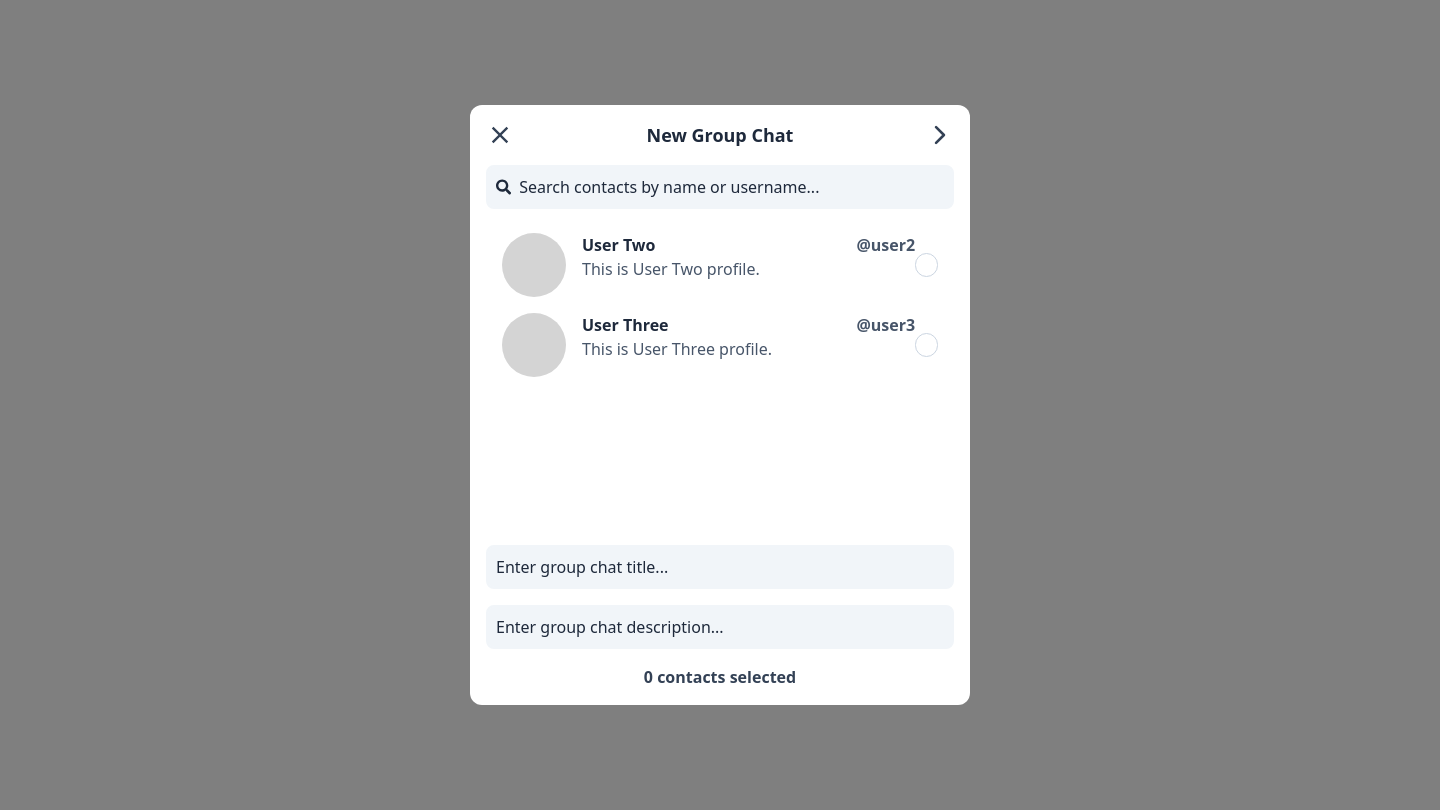
Test case: <NewChatModal /> › Group Chat Modal › prevents starting group chat without title
Step 1. Click the button with test id "start-new-group-chat-button" → (940, 135), box left=926, top=121, right=954, bottom=149
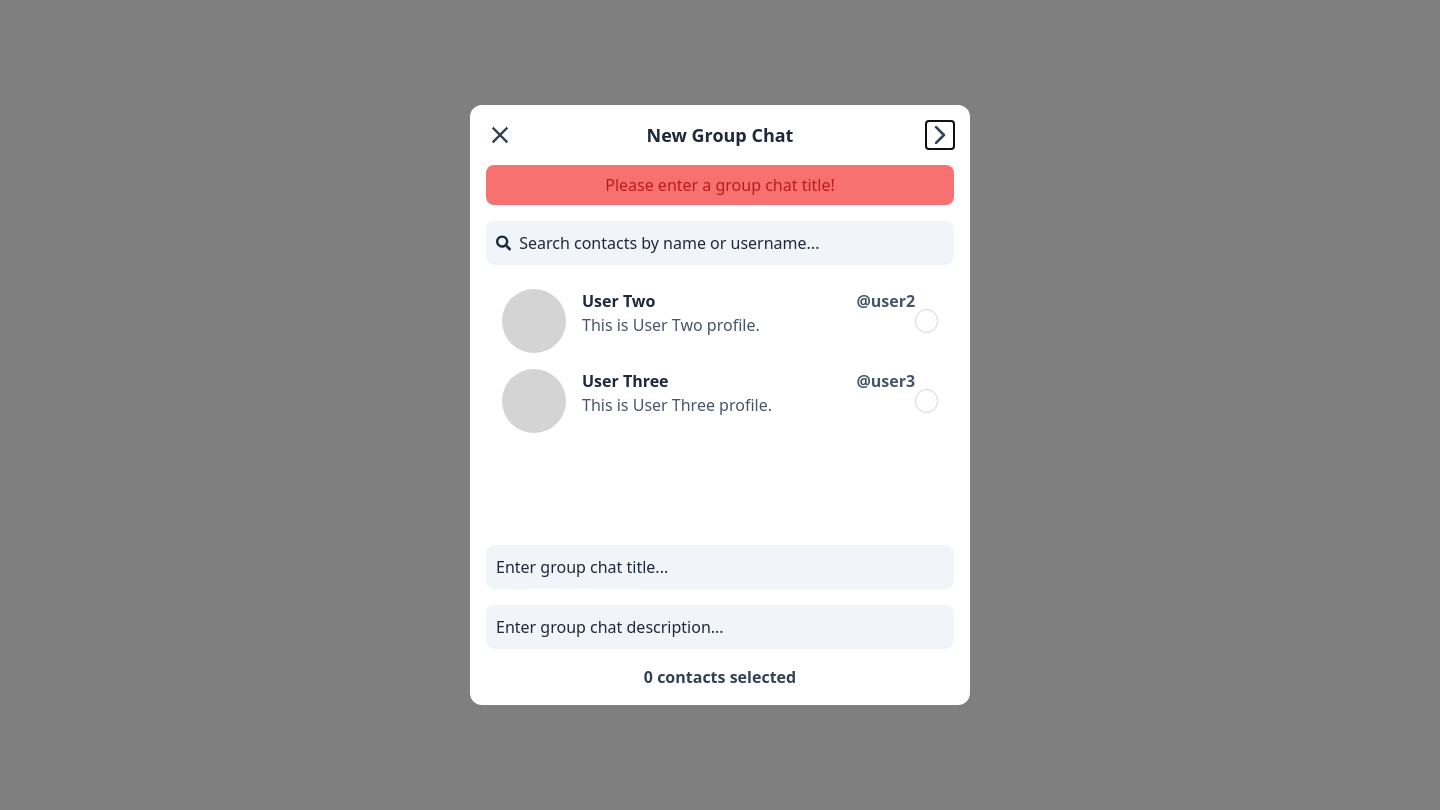
expect the text "Please enter a group chat title!" is shown: met, box left=486, top=165, right=954, bottom=205
